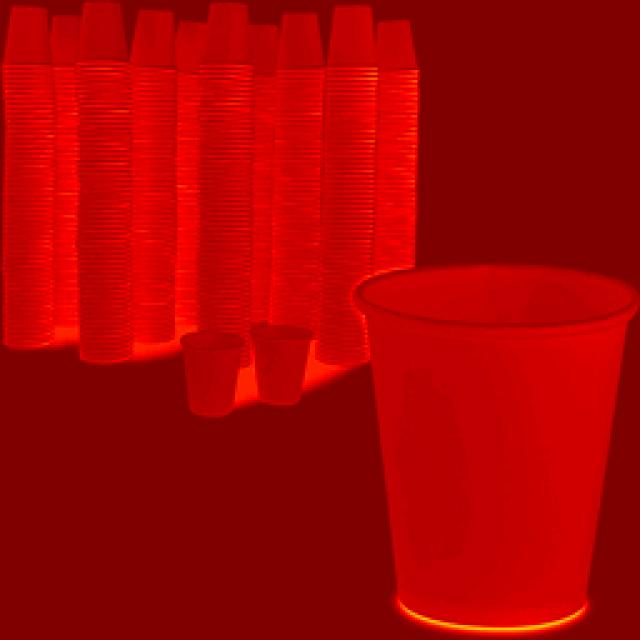Paper Cups: (357, 261, 640, 628), (80, 13, 139, 364), (132, 7, 187, 350), (325, 0, 379, 343), (279, 15, 326, 377), (0, 0, 50, 339), (207, 4, 255, 342), (367, 2, 422, 267), (171, 27, 210, 340), (48, 15, 86, 323), (246, 19, 281, 339), (184, 327, 246, 428), (257, 314, 309, 411)
